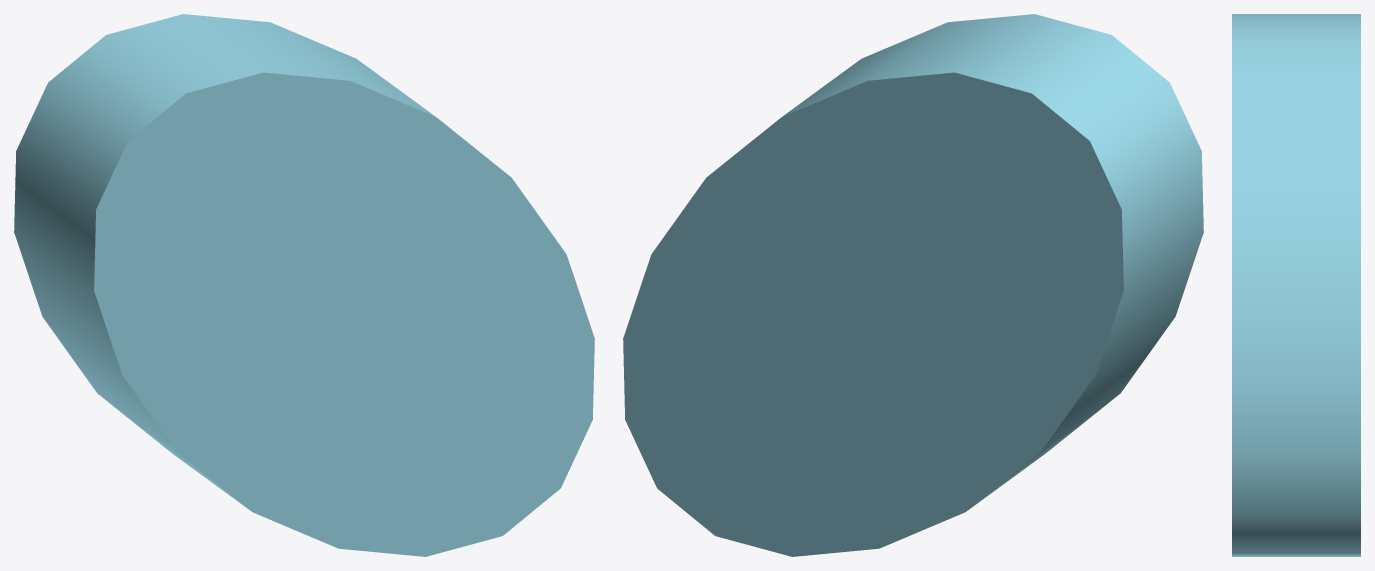
File: Halcion.FBX
3 renders of one model, left to right at view 1: azimuth 30°, elevation 25°; view 2: azimuth 150°, elevation 25°; view 3: azimuth 270°, elevation 25°, orthographic. The views are drawn at different scales.
Parts seen in each view (by area): view 1: Halcion; view 2: Halcion; view 3: Halcion.
Part boxes in pixels (left/top/right/bottom): Halcion: left=14, top=14, right=594, bottom=556; Halcion: left=623, top=14, right=1203, bottom=556; Halcion: left=1232, top=14, right=1360, bottom=556.
Bounding box in the file's own units: 1.84 × 1.84 × 0.5083.
1 material, 1 textured.
